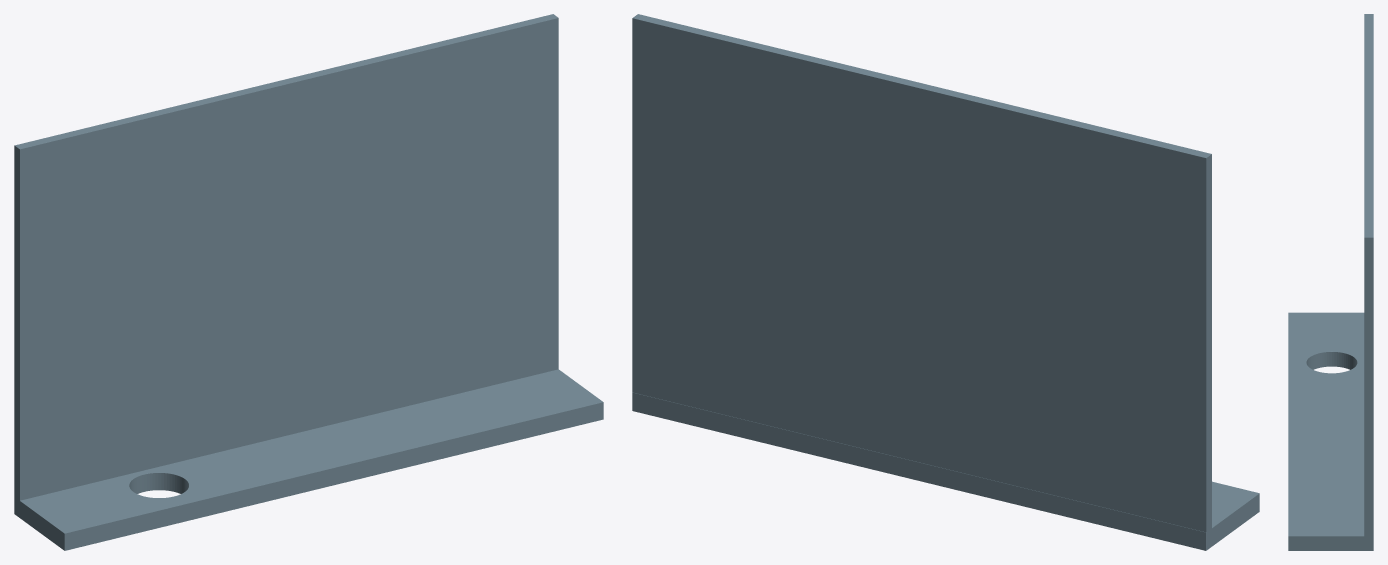
3 renders of one model, left to right at view 1: azimuth 30°, elevation 25°; view 2: azimuth 150°, elevation 25°; view 3: azimuth 270°, elevation 25°, orthographic. The views are drawn at different scales.
Parts seen in each view (by area): view 1: body_lower_sleeve; view 2: body_lower_sleeve; view 3: body_lower_sleeve.
Boxes of the visible parts, box(x1,y1,x2,y2) form: body_lower_sleeve: box(14, 14, 603, 550); body_lower_sleeve: box(632, 14, 1259, 550); body_lower_sleeve: box(1288, 14, 1373, 550).
Bounding box in the file's own units: 2.6 × 1.7 × 0.421.
